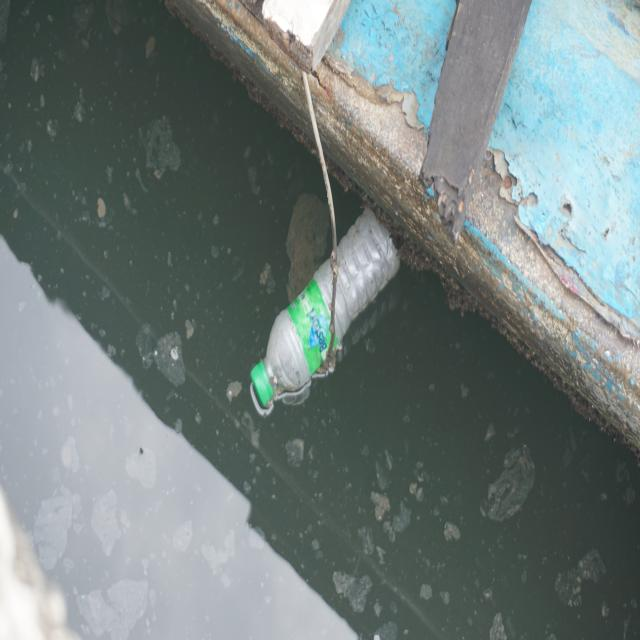Botol Plastik: (250, 209, 399, 420)
